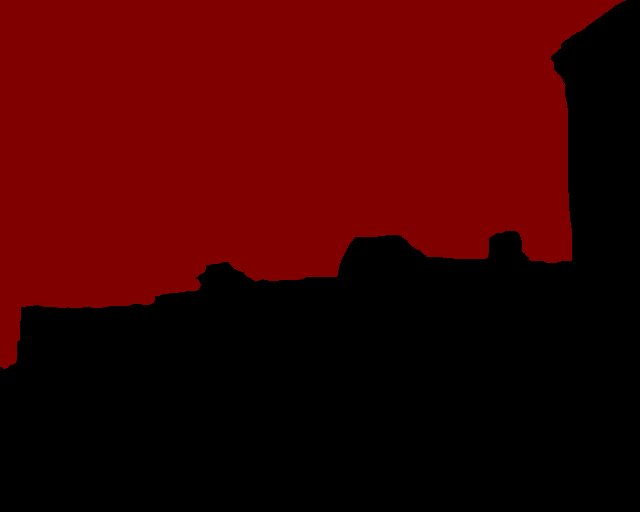Sky: (1, 1, 625, 368)
